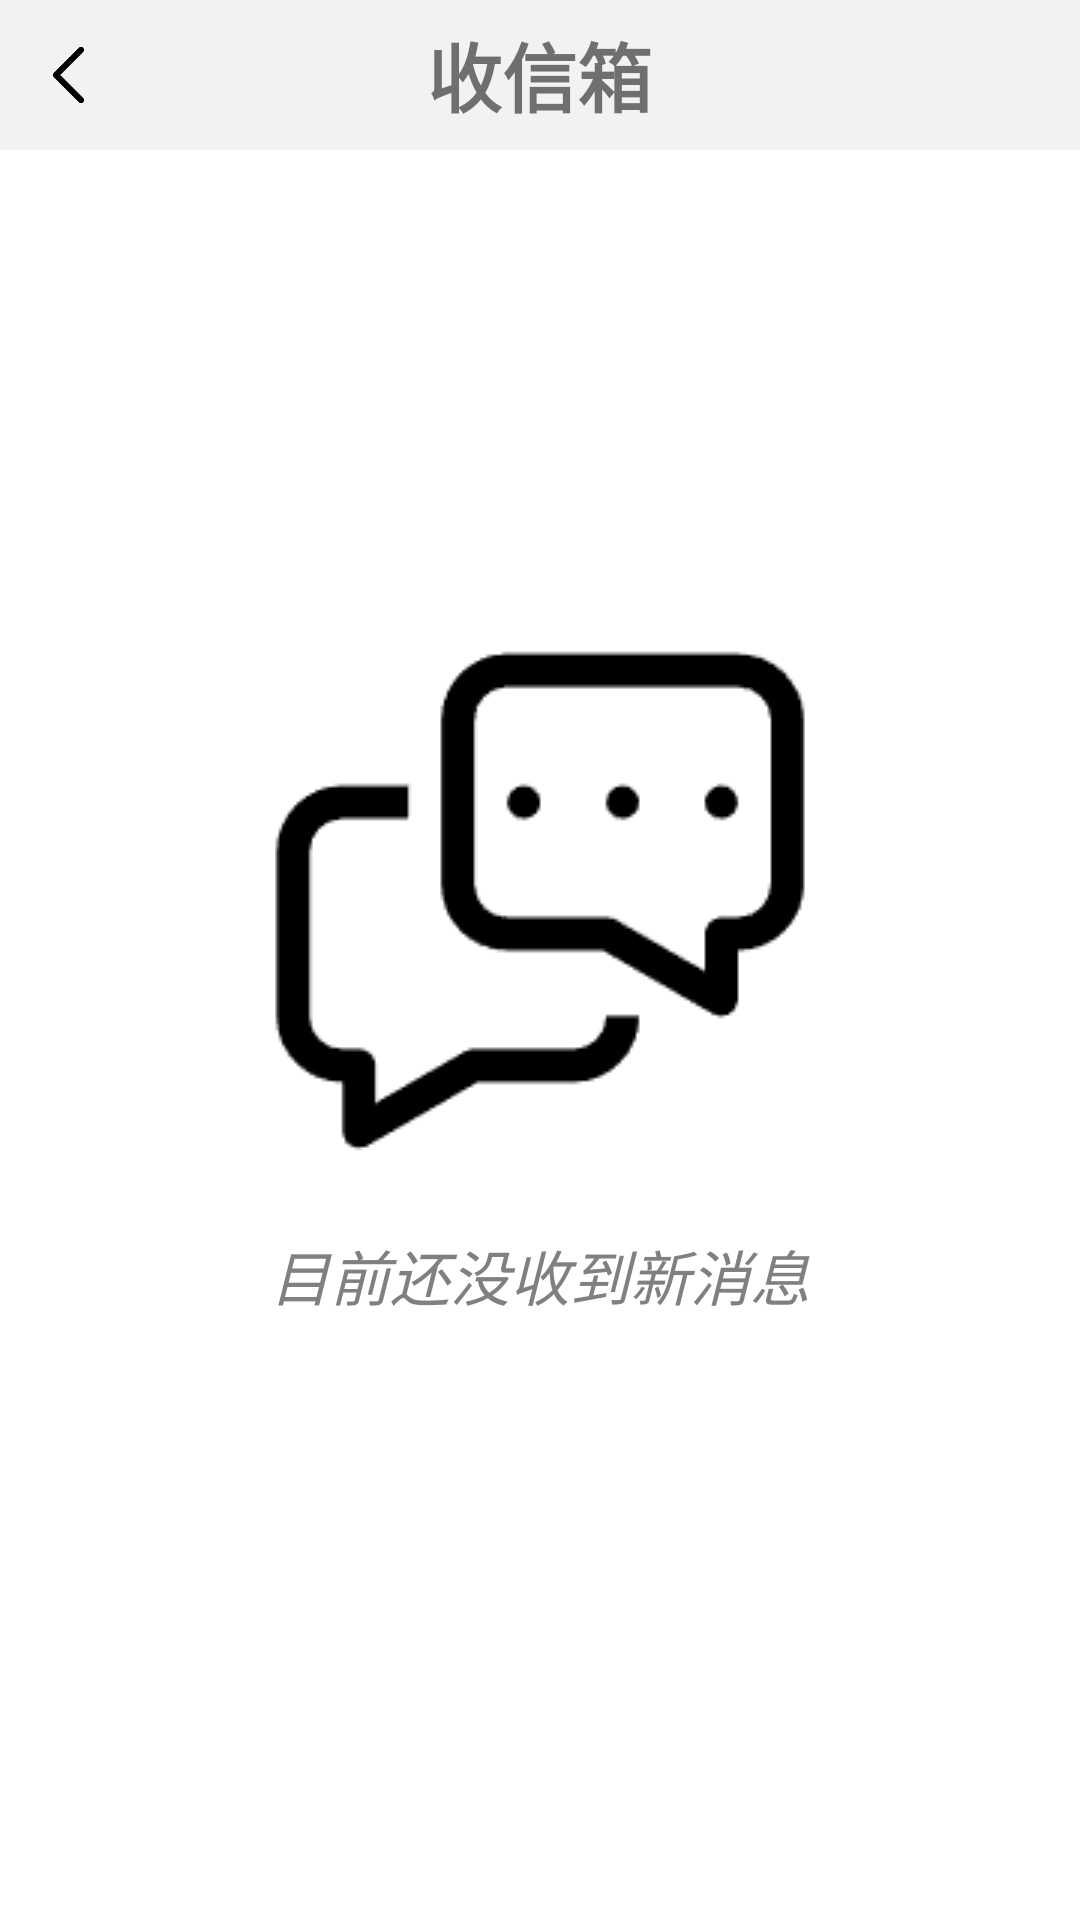

Icon click points for this 1080*1920 phone screenshot, format [x,y]:
xiangzuo: [68,75]
